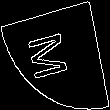M_E: (30, 27, 80, 83)
